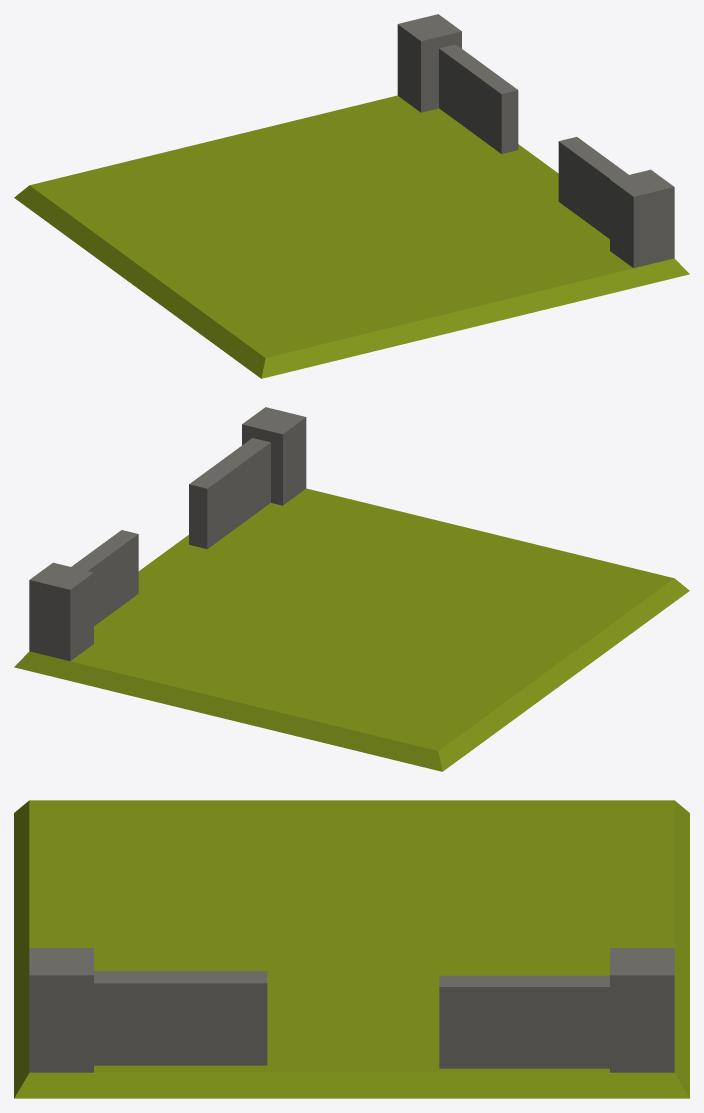
The model's file is cemetery_oneside.fbx.
3 renders of one model, top to bottom at view 1: azimuth 30°, elevation 25°; view 2: azimuth 150°, elevation 25°; view 3: azimuth 270°, elevation 25°, orthographic. The views are drawn at different scales.
Parts seen in each view (by area): view 1: polySurface3299; view 2: polySurface3299; view 3: polySurface3299.
Part boxes in pixels (bbox=[...]): polySurface3299: bbox=[14, 14, 689, 378]; polySurface3299: bbox=[14, 407, 689, 771]; polySurface3299: bbox=[14, 800, 689, 1098].
Size of the model in its own units: 105 by 20.81 by 105.
1 material, 1 textured.
